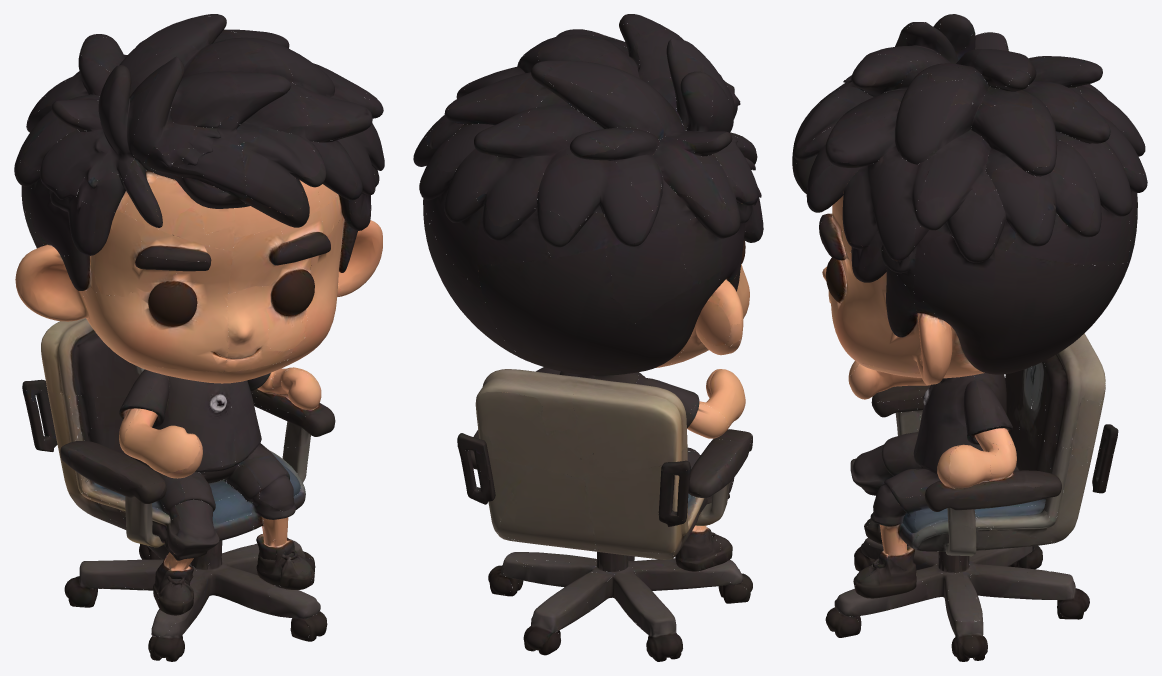
The model's file is dev-figure.glb.
The picture shows the model from 3 angles, left to right: view 1: azimuth 30°, elevation 25°; view 2: azimuth 150°, elevation 25°; view 3: azimuth 270°, elevation 25°; orthographic projection.
Visible parts, largest first — view 1: dev_figure; view 2: dev_figure; view 3: dev_figure.
Boxes of the visible parts, left/top/right/bottom form: dev_figure: left=14, top=14, right=384, bottom=661; dev_figure: left=413, top=14, right=763, bottom=661; dev_figure: left=792, top=14, right=1147, bottom=661.
Bounding box in the file's own units: 0.5868 × 0.9793 × 0.5568.
1 material, 1 textured.
